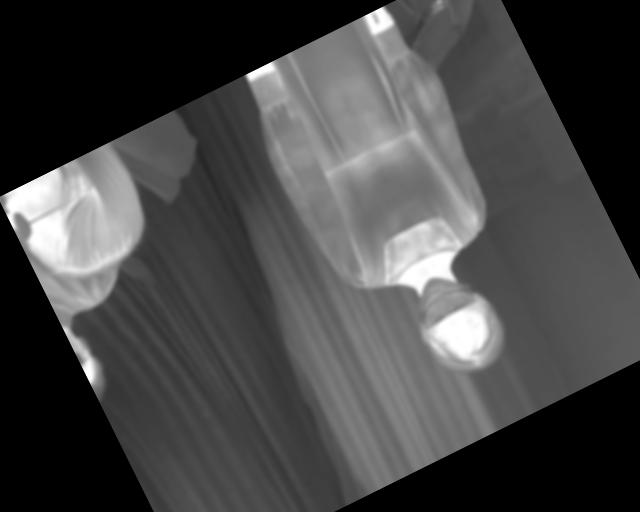face: (397, 255, 519, 389)
